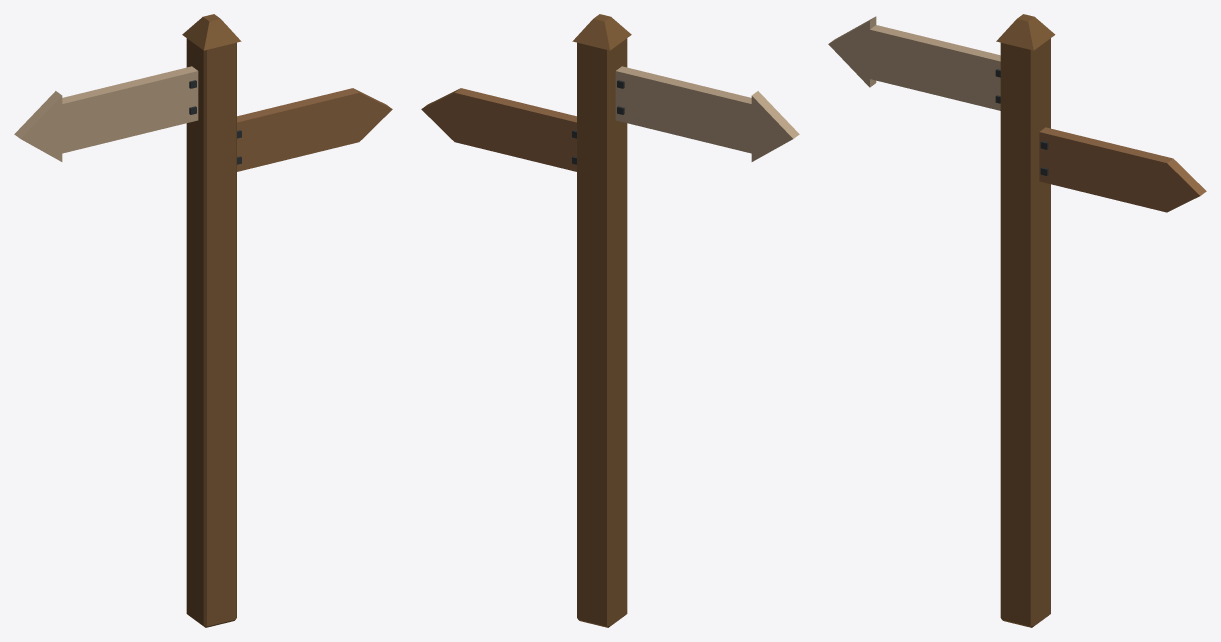
The picture shows the model from 3 angles, left to right: view 1: azimuth 30°, elevation 25°; view 2: azimuth 150°, elevation 25°; view 3: azimuth 330°, elevation 25°; orthographic projection.
Visible parts, largest first — view 1: mdvl_props_signpost_01_0; view 2: mdvl_props_signpost_01_0; view 3: mdvl_props_signpost_01_0.
Part boxes in pixels (box(x1,y1,x2,y2)): mdvl_props_signpost_01_0: box(14, 14, 392, 627); mdvl_props_signpost_01_0: box(421, 14, 799, 627); mdvl_props_signpost_01_0: box(828, 14, 1206, 627).
Bounding box in the file's own units: 1.34 × 2.07 × 0.1358.
Materials: 1 (1 with a texture image).
